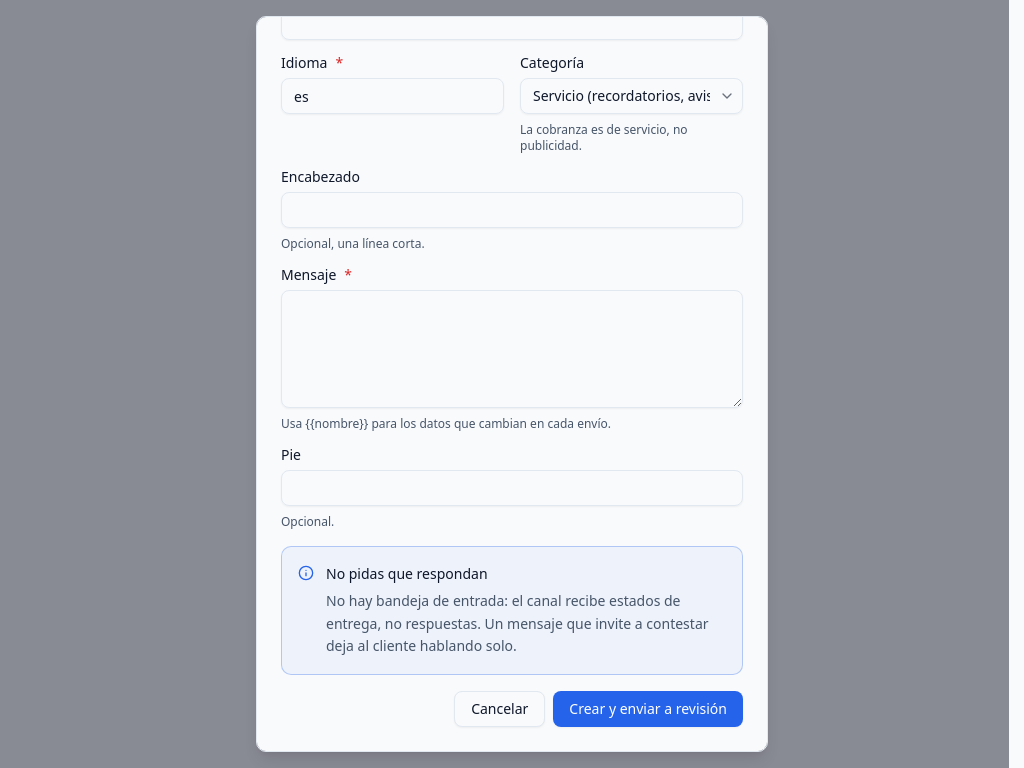
Scenario: el formulario vacío no llega al API
(page scrolled)
Click the button "Crear y enviar a revisión": coordinates (648, 709) [553,691,743,727]
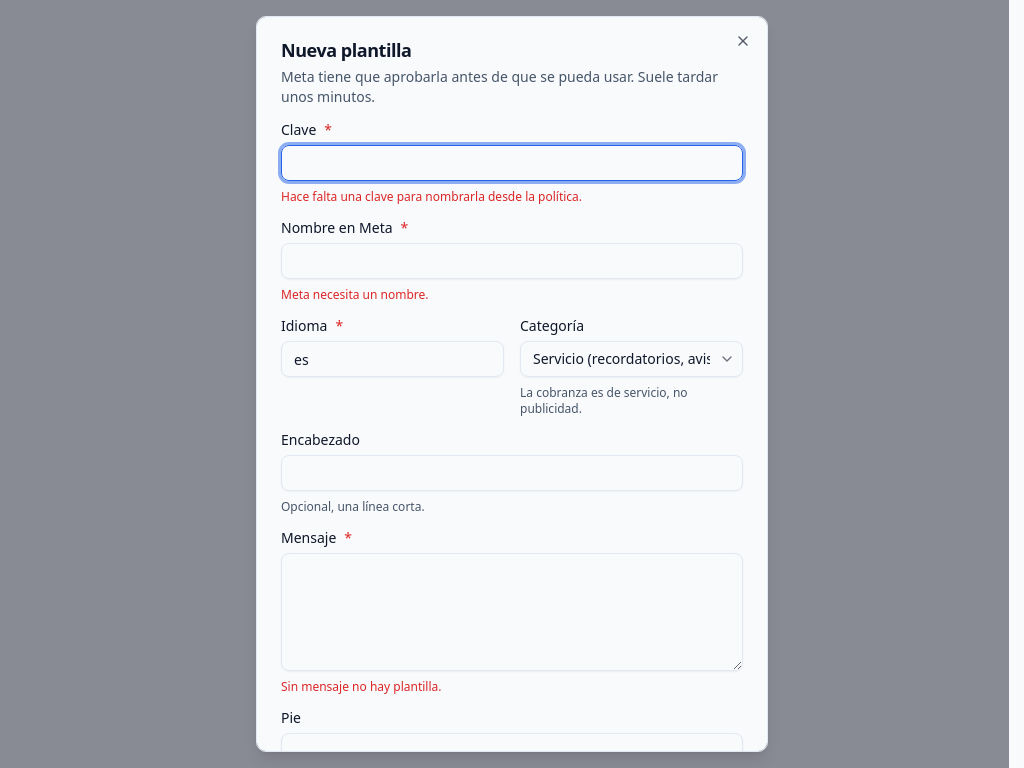
Result: the text "Sin mensaje no hay plantilla." is shown at [281,678,442,695]
